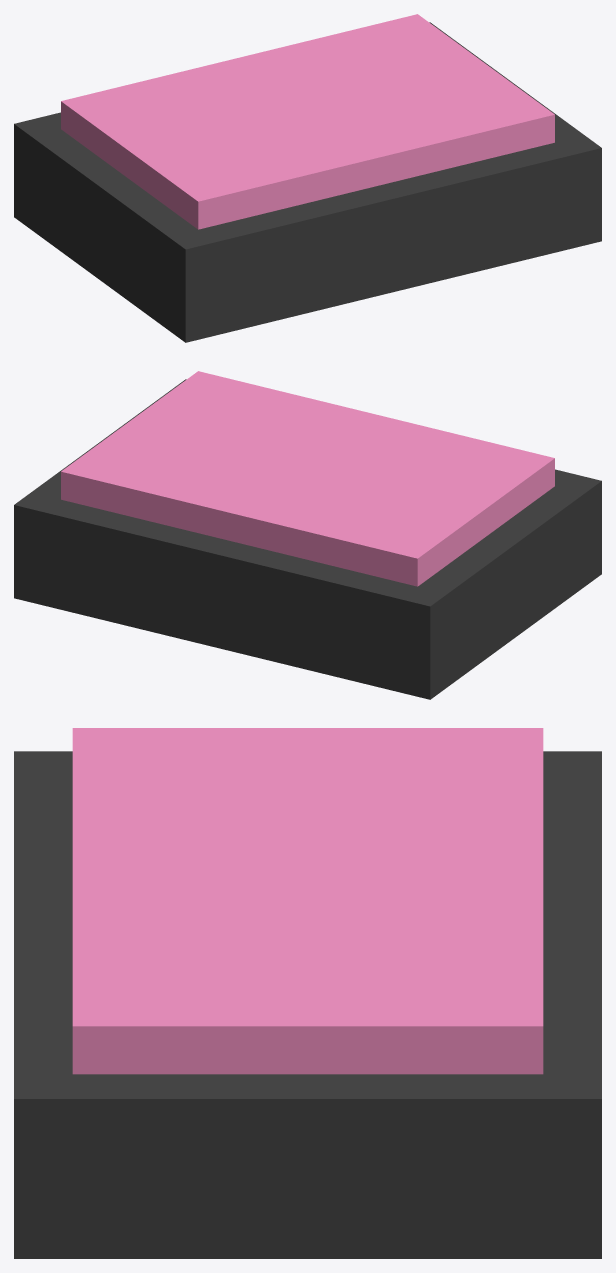
The picture shows the model from 3 angles, top to bottom: view 1: azimuth 30°, elevation 25°; view 2: azimuth 150°, elevation 25°; view 3: azimuth 270°, elevation 25°; orthographic projection. The views are drawn at different scales.
Parts seen in each view (by area): view 1: Case, Ink surface; view 2: Case, Ink surface; view 3: Ink surface, Case.
Boxes of the visible parts, bbox=[...] form: Case: bbox=[14, 22, 601, 342]; Ink surface: bbox=[61, 14, 554, 229]; Case: bbox=[14, 379, 601, 699]; Ink surface: bbox=[61, 371, 554, 586]; Ink surface: bbox=[72, 728, 543, 1074]; Case: bbox=[14, 751, 601, 1258].
Bounding box in the file's own units: 0.14 × 0.039 × 0.1.
1 material, 1 textured.
